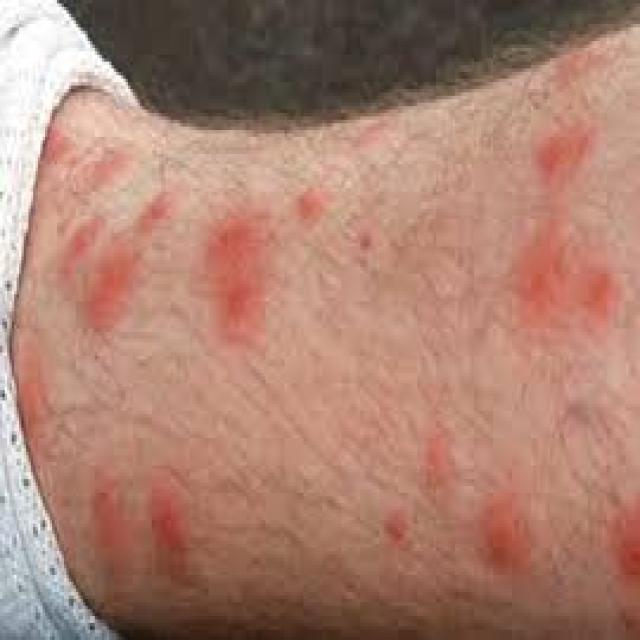kan emici bocekler: (187, 225, 280, 369), (7, 325, 66, 467), (519, 119, 611, 209), (143, 482, 203, 590), (603, 476, 640, 629), (501, 250, 567, 328), (580, 257, 630, 357), (485, 496, 536, 577), (372, 501, 428, 564), (92, 478, 130, 564), (406, 421, 455, 482), (54, 231, 98, 294)
